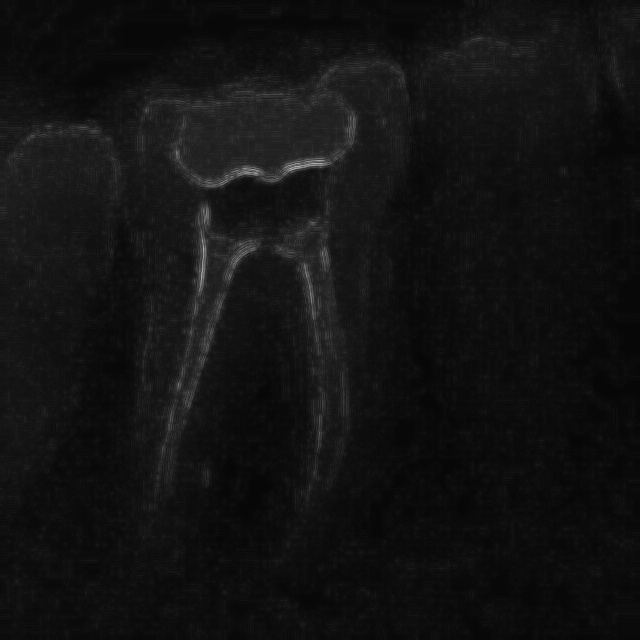Class 0- No endodontic treatment: (114, 208, 387, 614)
